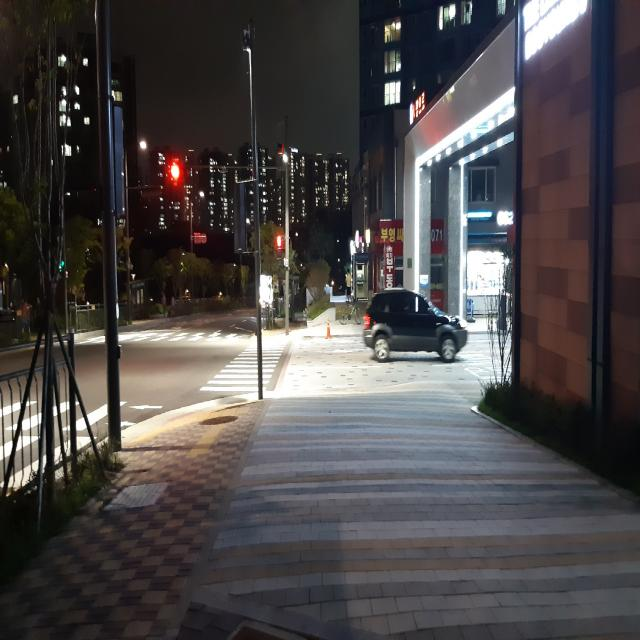빨간불: (276, 230, 284, 265)
횡단보도: (200, 343, 286, 392)
